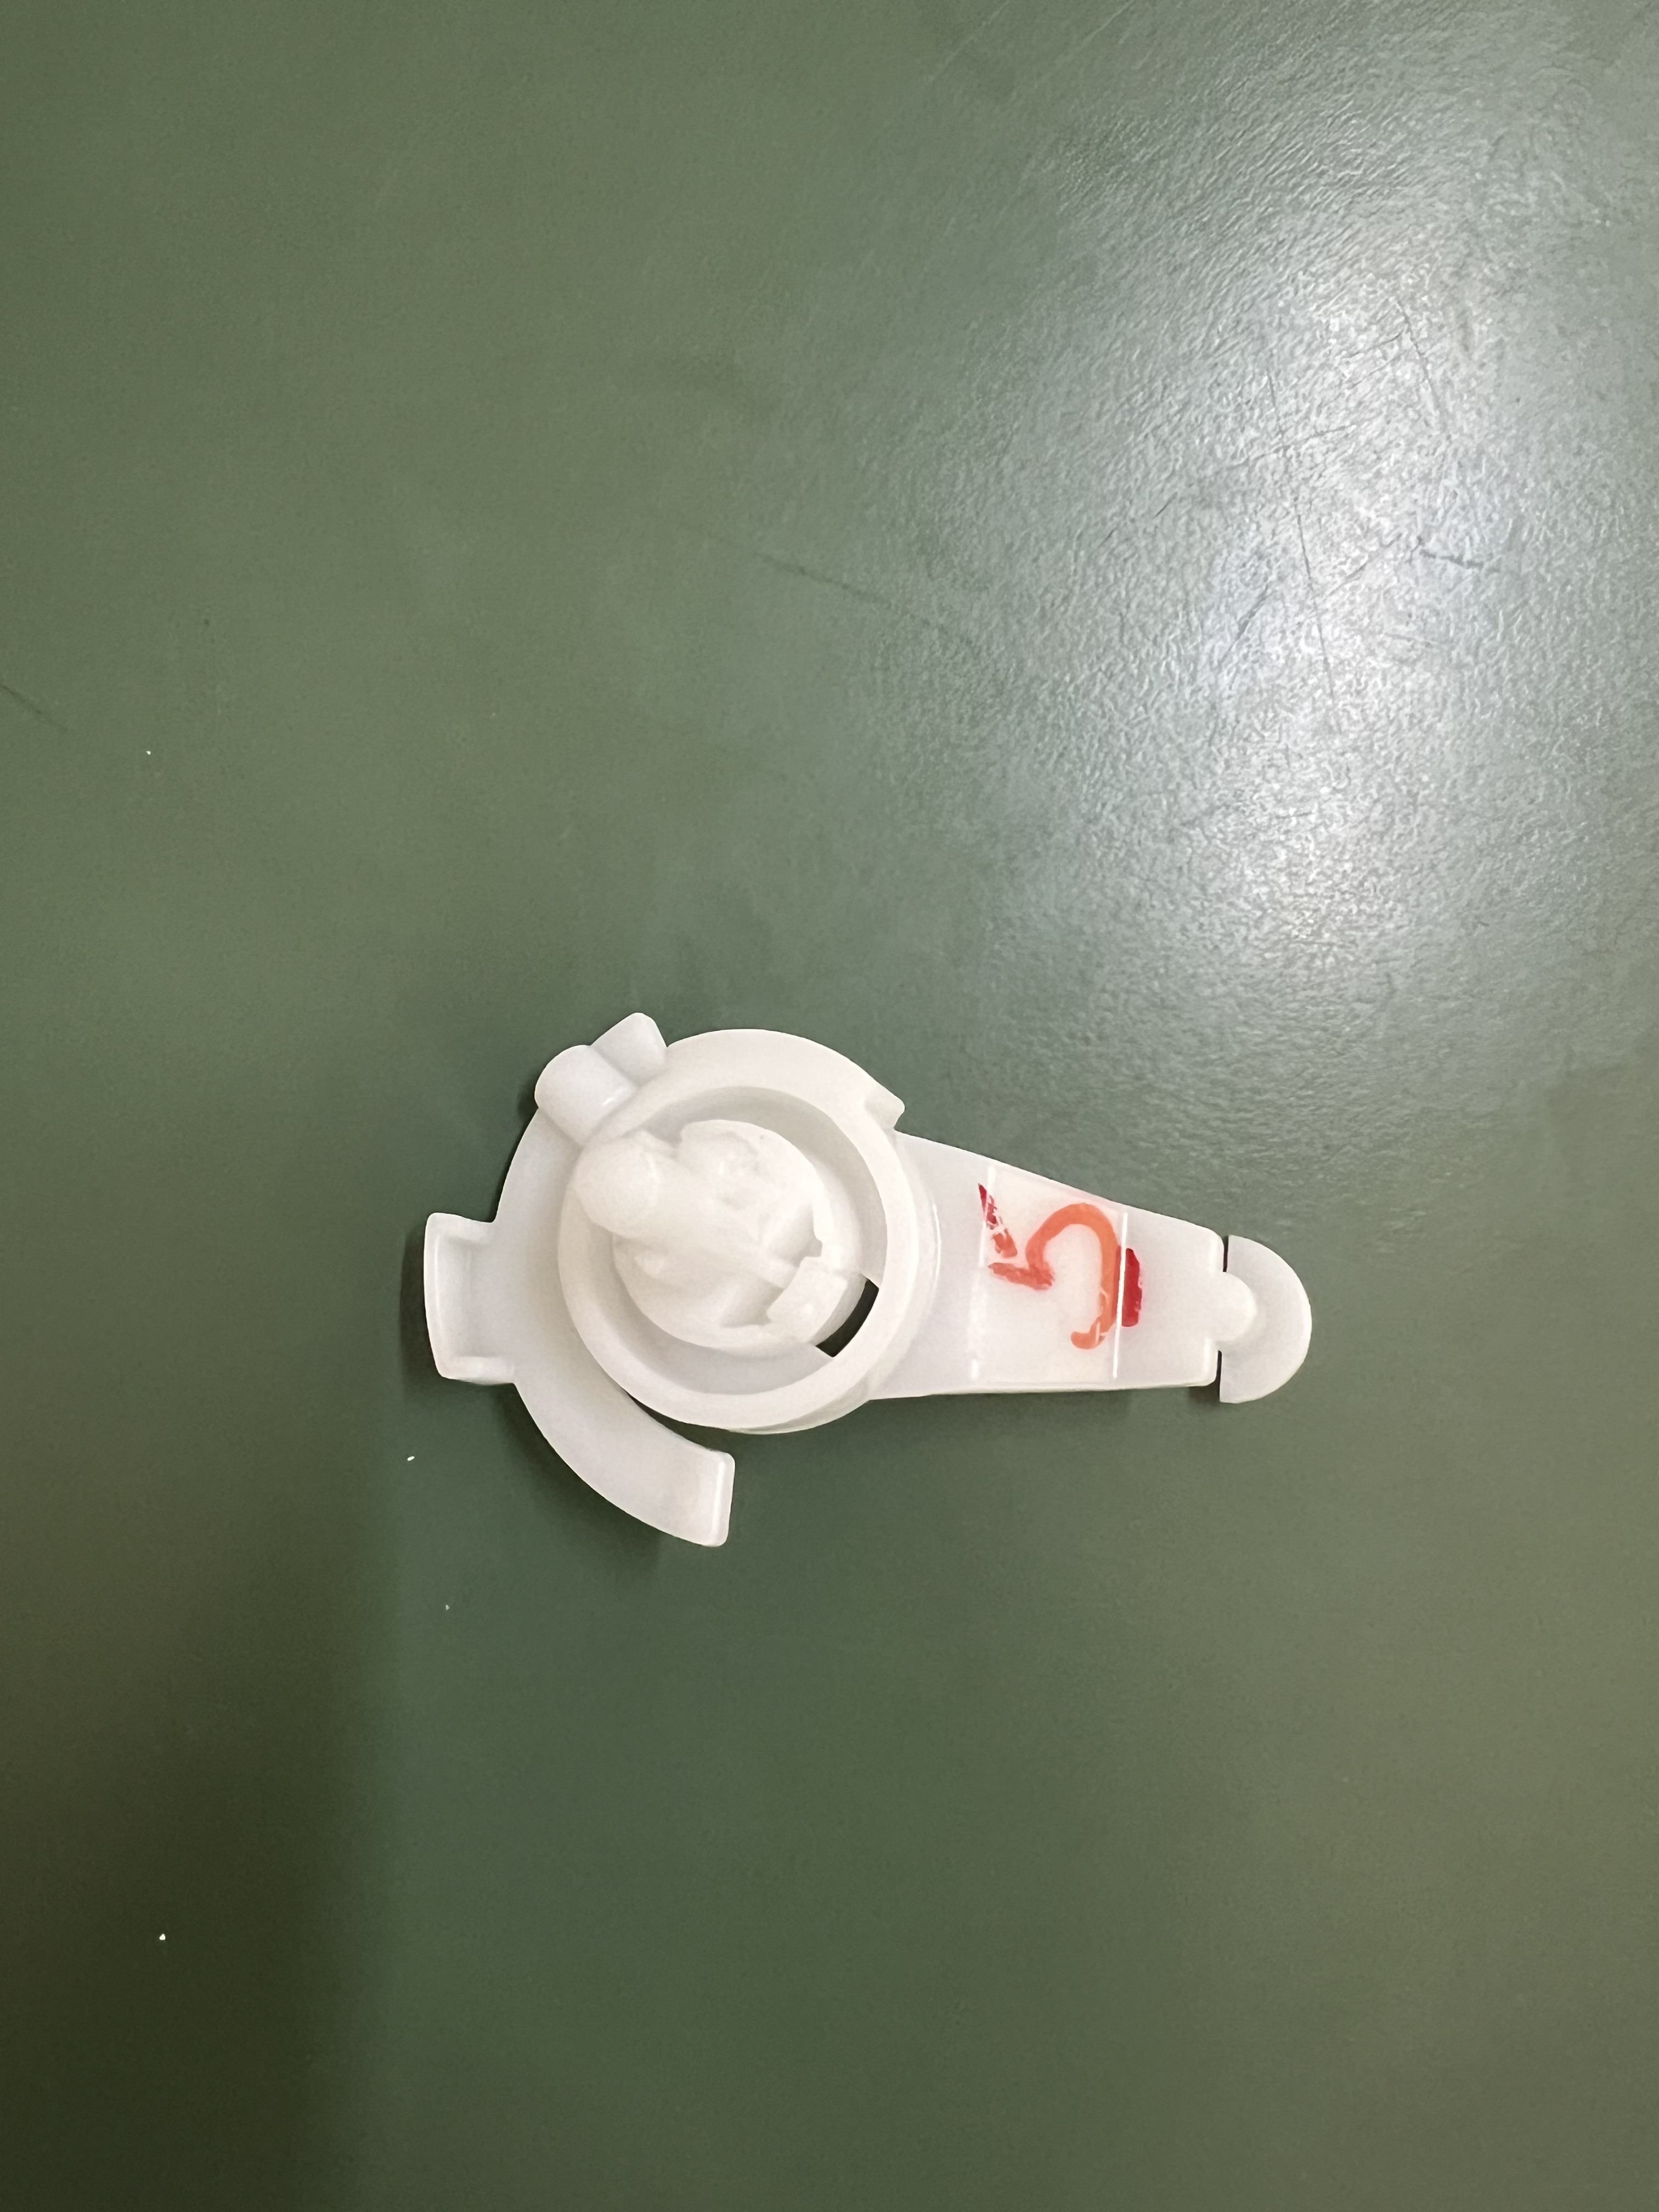drain_lever: (415, 1010, 1323, 1561)
